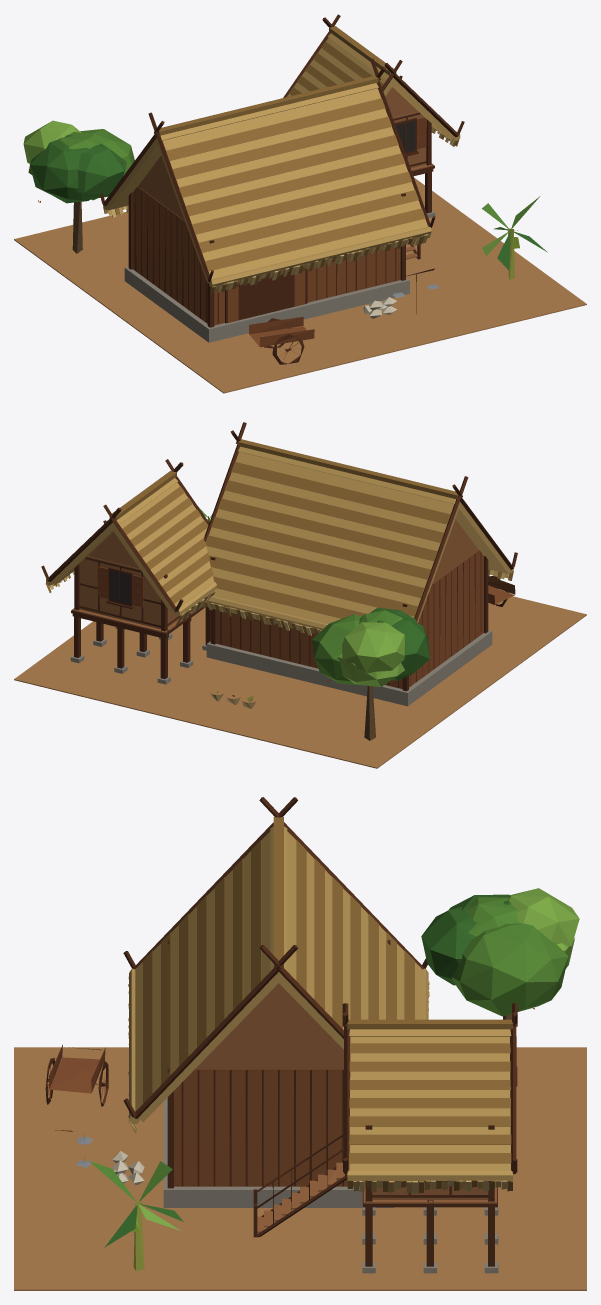
Rendered from shop_4.glb.
The picture shows the model from 3 angles, top to bottom: view 1: azimuth 30°, elevation 25°; view 2: azimuth 150°, elevation 25°; view 3: azimuth 270°, elevation 25°; orthographic projection. The views are drawn at different scales.
Visible parts, largest first — view 1: body; view 2: body, windows; view 3: body.
Boxes of the visible parts, left/top/right/bottom form: body: left=14, top=14, right=586, bottom=393; body: left=14, top=422, right=586, bottom=768; windows: left=109, top=570, right=130, bottom=604; body: left=14, top=797, right=586, bottom=1290.
Size of the model in its own units: 16.43 by 8.36 by 15.9.
